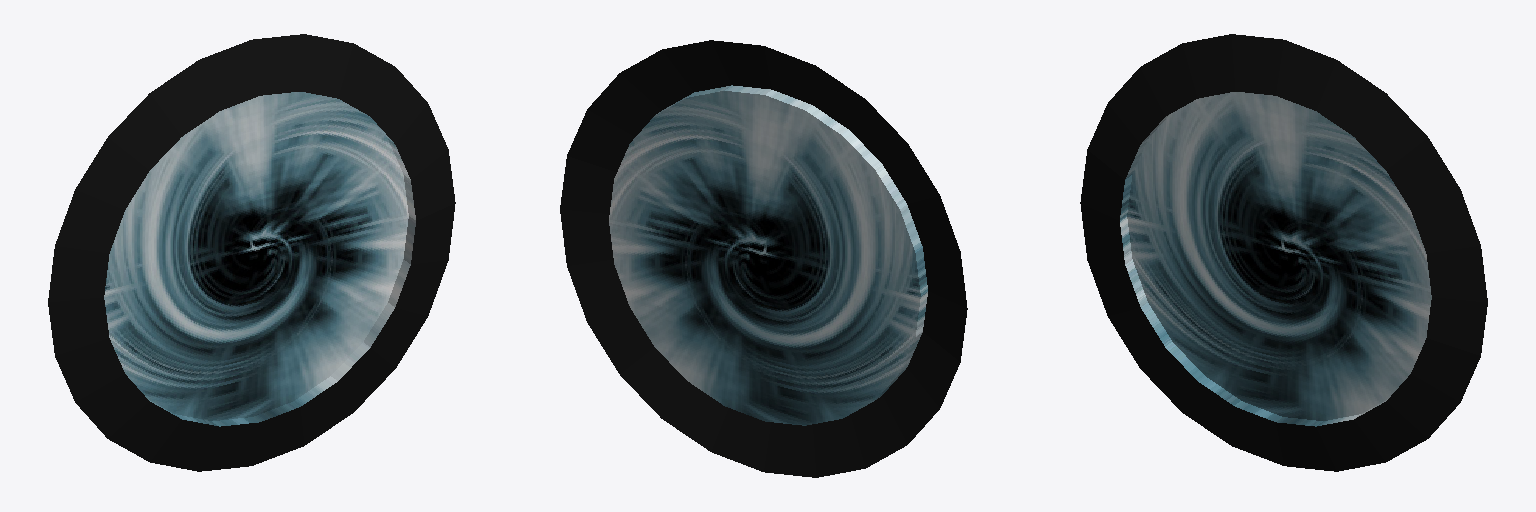
3 views of the same model, side by side, from view 1: azimuth 30°, elevation 25°; view 2: azimuth 150°, elevation 25°; view 3: azimuth 330°, elevation 25° (orthographic).
Visible parts, largest first — view 1: Mesh.001_Mesh1_Group1_Model, Mesh_Mesh2_Group2_Model; view 2: Mesh.001_Mesh1_Group1_Model, Mesh_Mesh2_Group2_Model; view 3: Mesh.001_Mesh1_Group1_Model, Mesh_Mesh2_Group2_Model.
Part boxes in pixels (bbox=[...]): Mesh.001_Mesh1_Group1_Model: bbox=[104, 92, 415, 426]; Mesh_Mesh2_Group2_Model: bbox=[48, 34, 455, 471]; Mesh.001_Mesh1_Group1_Model: bbox=[609, 85, 927, 425]; Mesh_Mesh2_Group2_Model: bbox=[560, 40, 967, 477]; Mesh.001_Mesh1_Group1_Model: bbox=[1120, 92, 1431, 426]; Mesh_Mesh2_Group2_Model: bbox=[1080, 34, 1487, 471].
Bounding box in the file's own units: 14 × 14 × 0.5.
Materials: 2 (1 with a texture image).